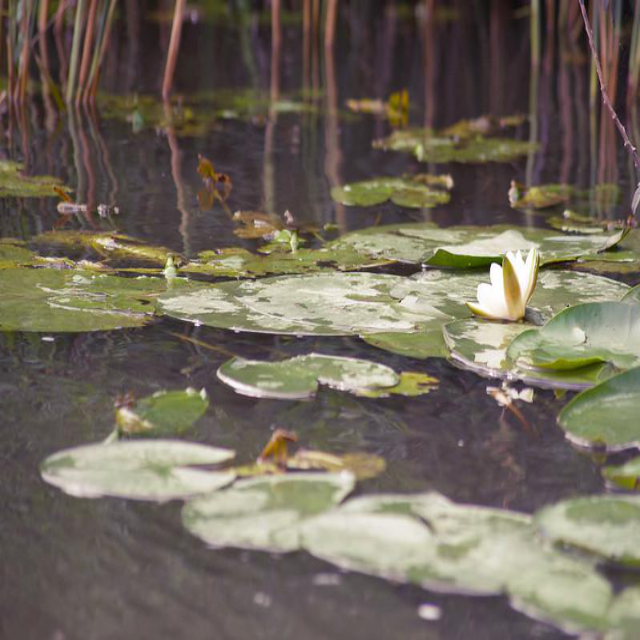water_lily: (468, 246, 543, 322)
